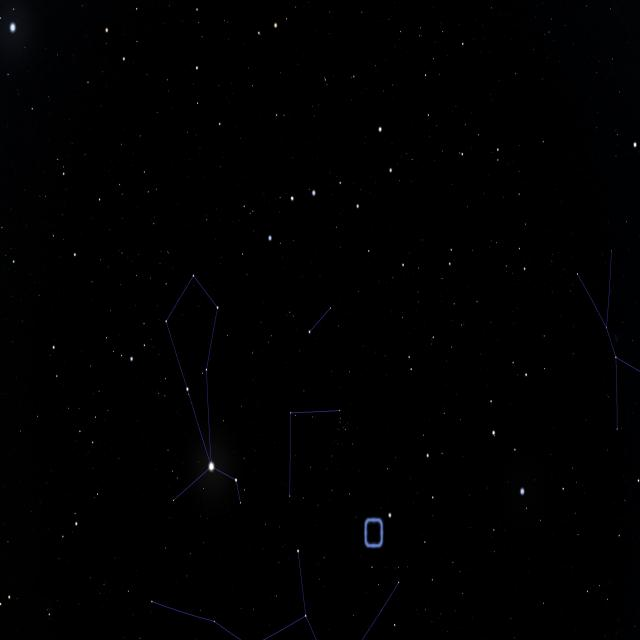Venatici: (305, 298, 339, 342)
